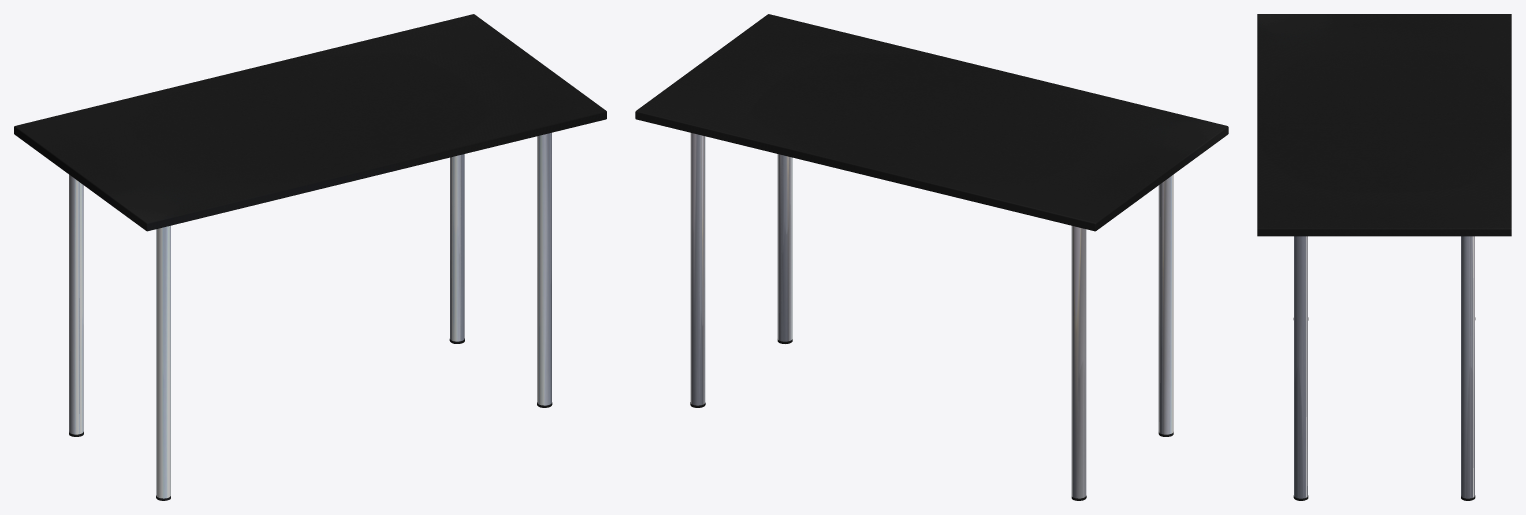
The model's file is madrid_120x80_black_chrome_plated.glb.
3 views of the same model, side by side, from view 1: azimuth 30°, elevation 25°; view 2: azimuth 150°, elevation 25°; view 3: azimuth 270°, elevation 25° (orthographic). The views are drawn at different scales.
Visible parts, largest first — view 1: madrid_120x60x75-black; view 2: madrid_120x60x75-black; view 3: madrid_120x60x75-black.
Part boxes in pixels (x1,y1,x2,y2): madrid_120x60x75-black: (14, 14, 606, 500); madrid_120x60x75-black: (635, 14, 1228, 500); madrid_120x60x75-black: (1257, 14, 1511, 500).
Bounding box in the file's own units: 1.2 × 0.7492 × 0.6008.
1 material, 1 textured.
